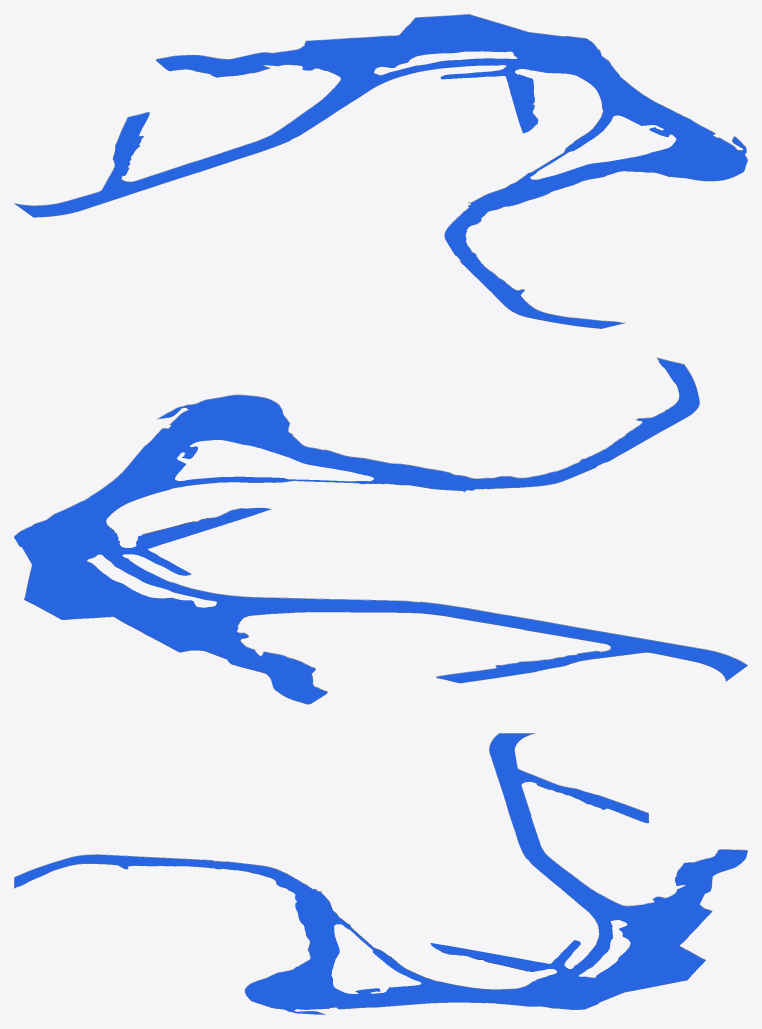
Rendered from Water.FBX.
3 renders of one model, top to bottom at view 1: azimuth 30°, elevation 25°; view 2: azimuth 150°, elevation 25°; view 3: azimuth 270°, elevation 25°, orthographic. The views are drawn at different scales.
Visible parts, largest first — view 1: SM_WaterPlane, SM_Water; view 2: SM_WaterPlane, SM_Water; view 3: SM_WaterPlane, SM_Water.
Boxes of the visible parts, <box> form: SM_WaterPlane: <box>15,14,747,328</box>; SM_Water: <box>14,14,747,328</box>; SM_WaterPlane: <box>14,358,747,704</box>; SM_Water: <box>14,357,747,704</box>; SM_WaterPlane: <box>14,733,747,1014</box>; SM_Water: <box>14,733,747,1014</box>.
Size of the model in its own units: 5303 by 4.03 by 5843.
